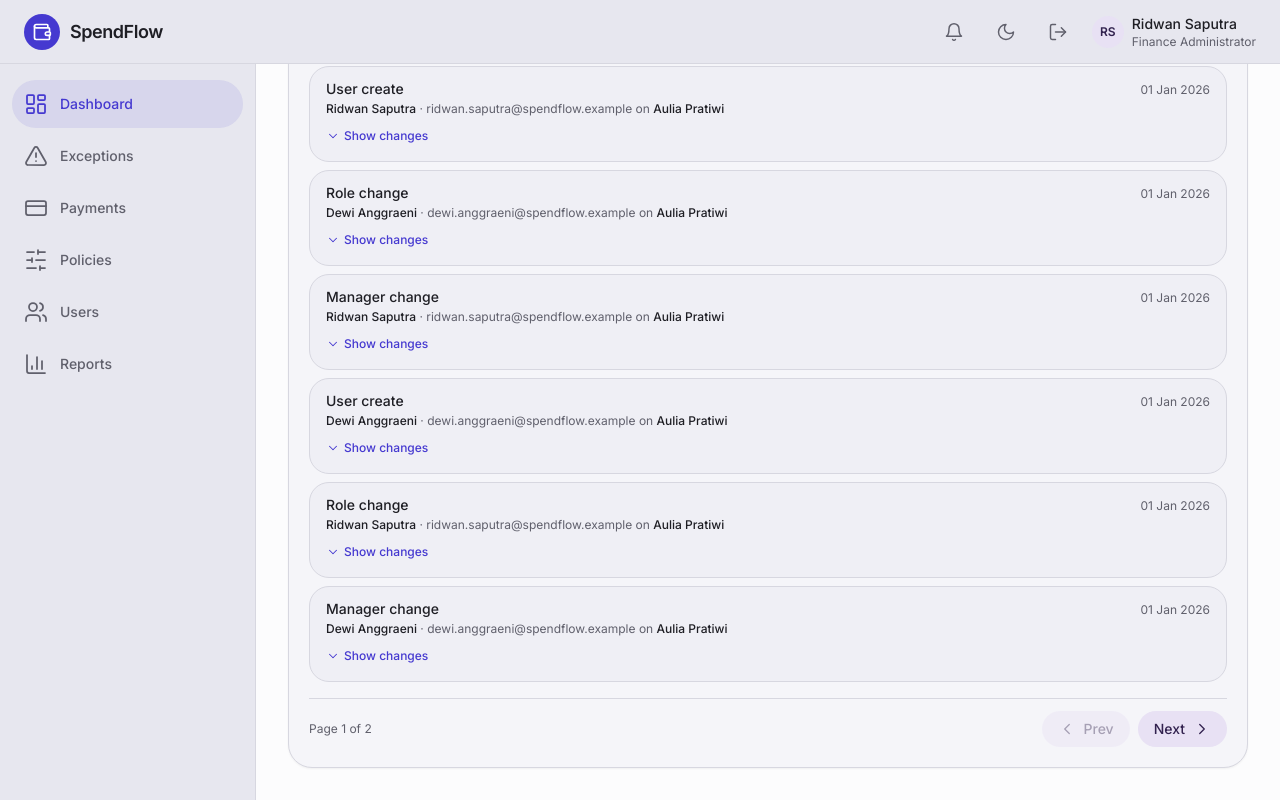
Test case: /finance/audit (#71) › paginates through the fetched window with Next/Prev
(page scrolled)
Expected: the text "Page 1 of 2" is shown, [309,721,372,737]
Expected: the button "Prev" is disabled, [1042,711,1130,747]
Step 1. Click the button "Next" → (1182, 729), box [1138,711,1227,747]
(page scrolled)
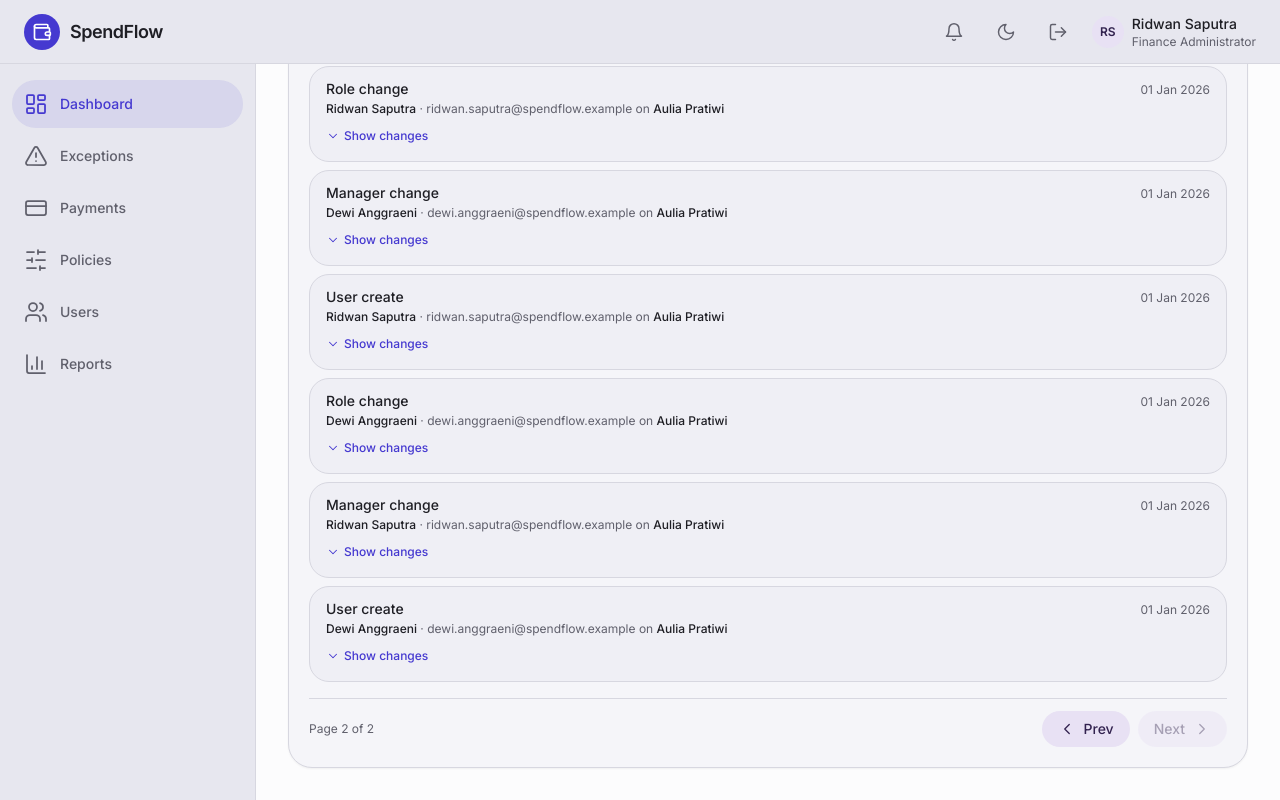
Result: the text "Page 2 of 2" is shown at [309,721,374,737]
Result: the number of list items is 10
Result: the button "Next" is disabled at [1138,711,1227,747]
Step 2. Click the button "Prev" → (1086, 729), box [1042,711,1130,747]
(page scrolled)
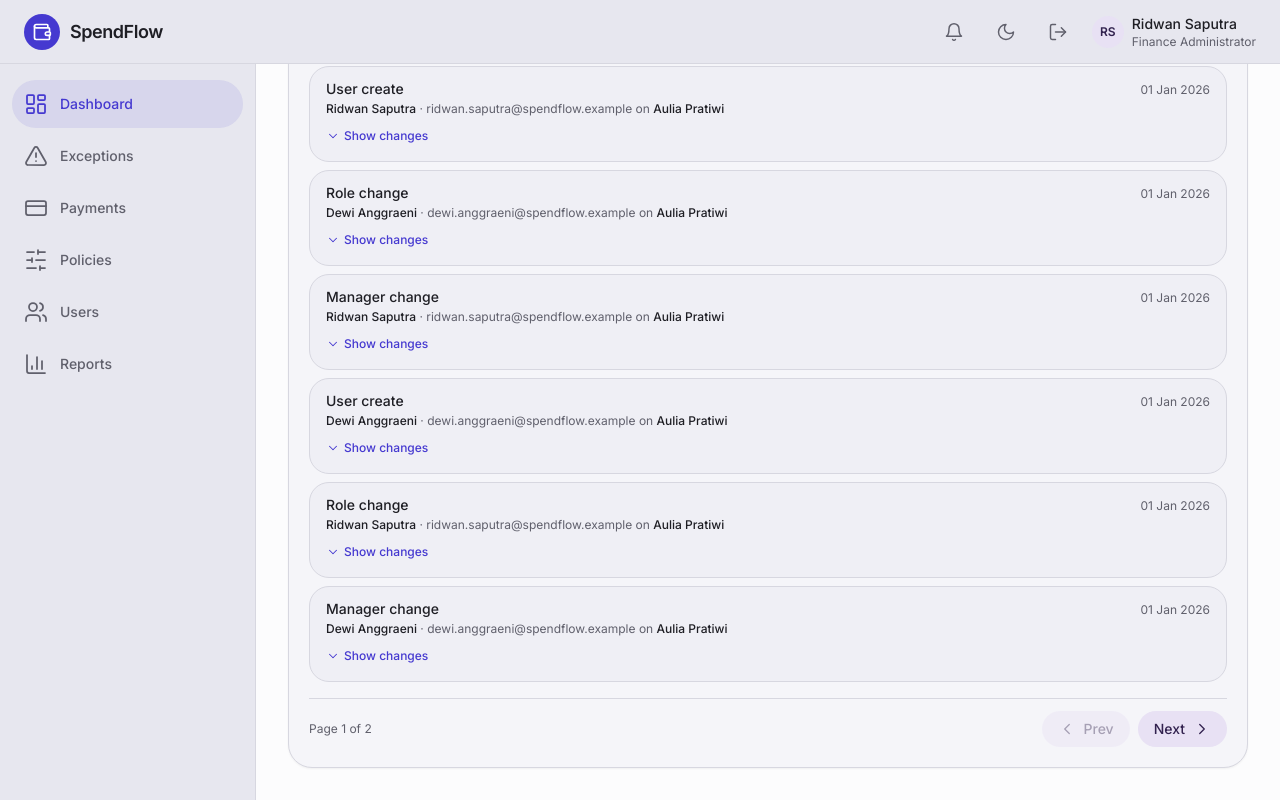
Result: the text "Page 1 of 2" is shown at [309,721,372,737]
